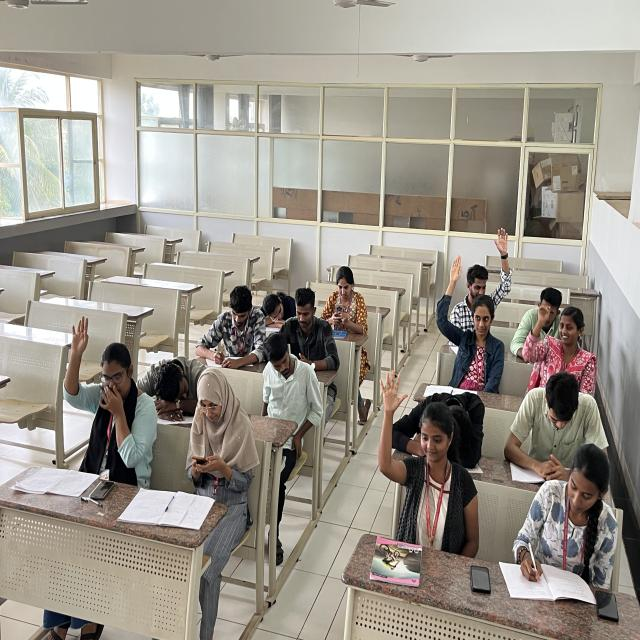Hand Rising: (369, 367, 482, 556), (58, 311, 156, 494), (426, 250, 508, 386), (520, 296, 599, 386), (459, 225, 521, 313)
Reading: (505, 364, 603, 498)
Sleeping: (429, 386, 497, 463), (138, 354, 202, 427), (254, 284, 296, 340)
Using Phone: (183, 368, 266, 534), (277, 282, 338, 382), (321, 263, 375, 354)
Writing: (510, 435, 615, 613), (196, 280, 265, 370)
